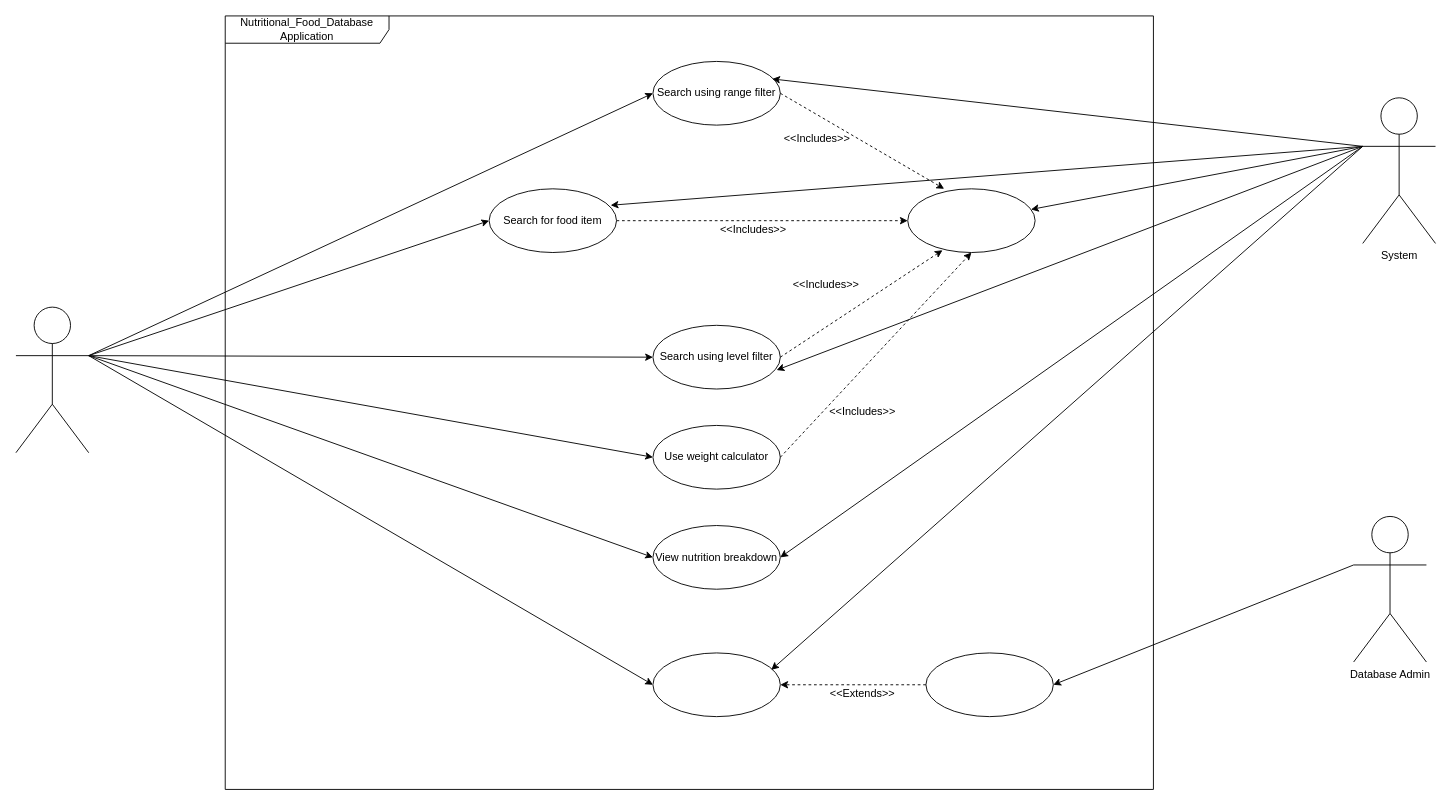
Image size: 1451x805. Some labels were removed from this diagram. Each missing label, with the centre of its shape:
Display results: point 971,220
Update database: point 989,684
User: point 52,379
View changelog: point 716,684
